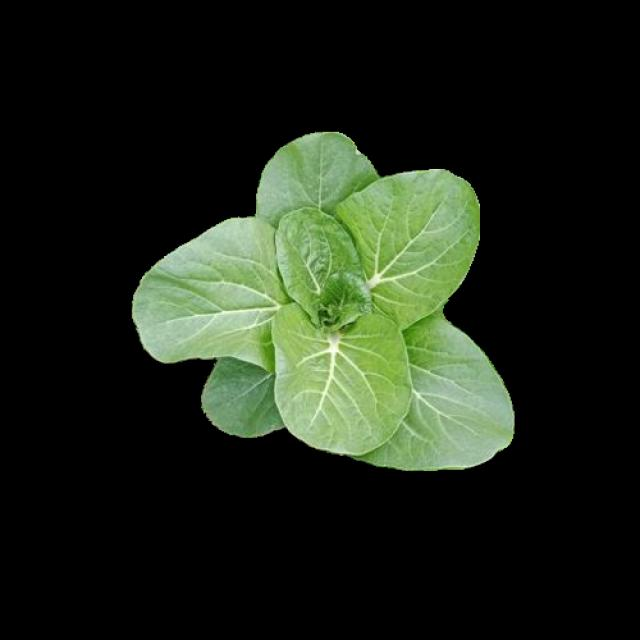healthy: (133, 133, 513, 465)
not-mature: (136, 136, 516, 467)
